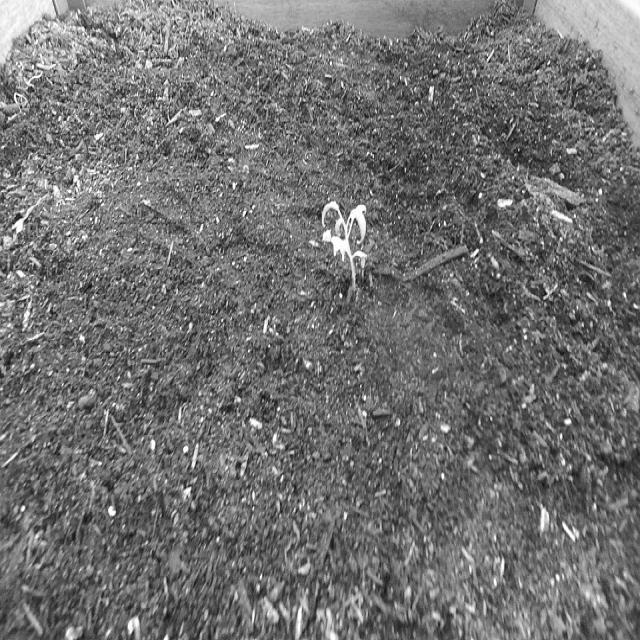Healthy: (319, 194, 373, 301)
